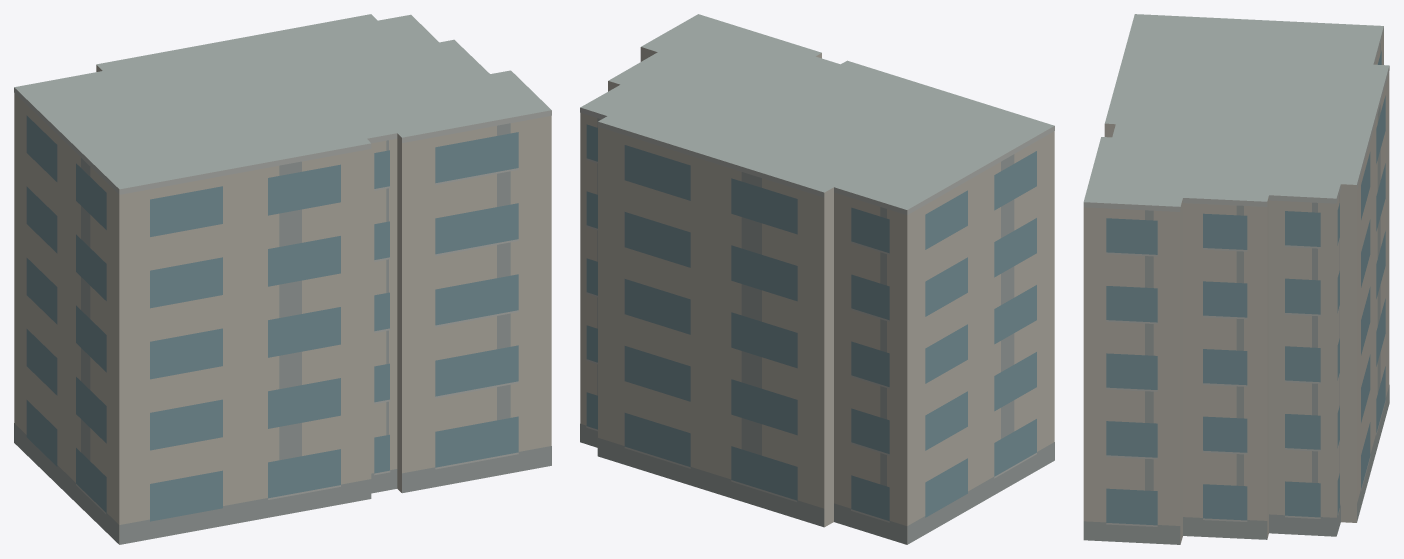
Rendered from survey-upis-32847894.glb.
3 views of the same model, side by side, from view 1: azimuth 30°, elevation 25°; view 2: azimuth 150°, elevation 25°; view 3: azimuth 270°, elevation 25° (orthographic). The views are drawn at different scales.
Visible parts, largest first — view 1: survey-upis-32847894.tmp; view 2: survey-upis-32847894.tmp; view 3: survey-upis-32847894.tmp.
Boxes of the visible parts, box(x1,y1,x2,y2) form: survey-upis-32847894.tmp: box(14, 14, 551, 544); survey-upis-32847894.tmp: box(580, 14, 1054, 544); survey-upis-32847894.tmp: box(1083, 14, 1389, 544).
Size of the model in its own units: 19.46 by 15.9 by 13.05.
